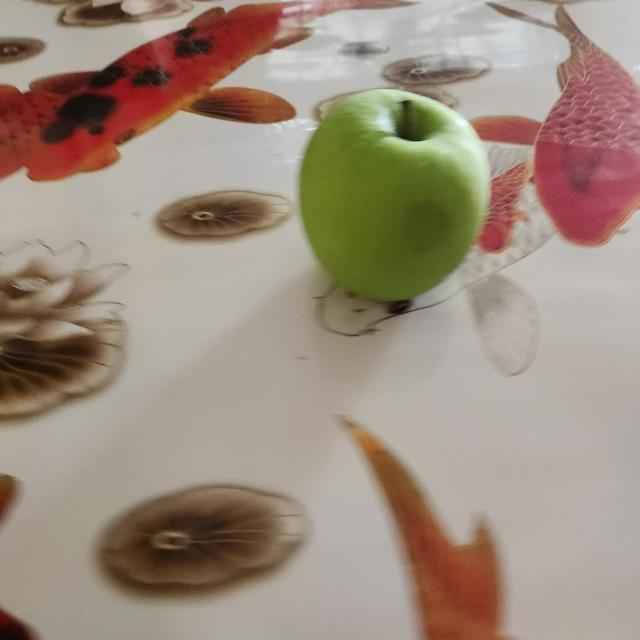apple: (294, 81, 491, 312)
